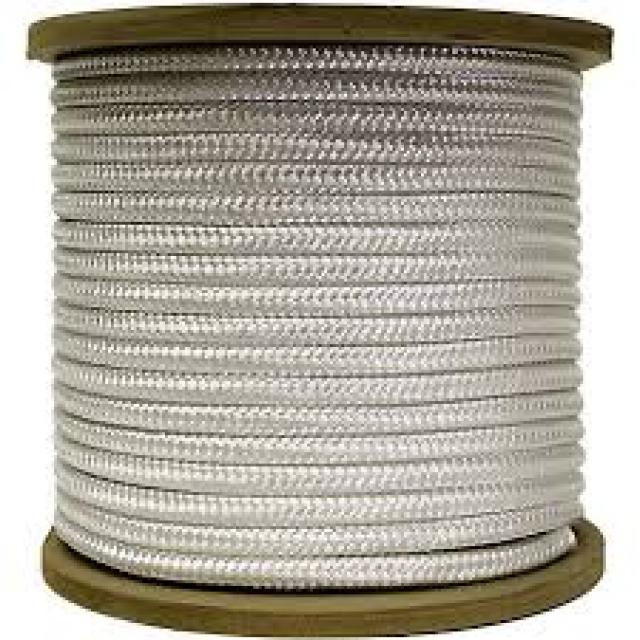rope: (26, 6, 614, 603)
